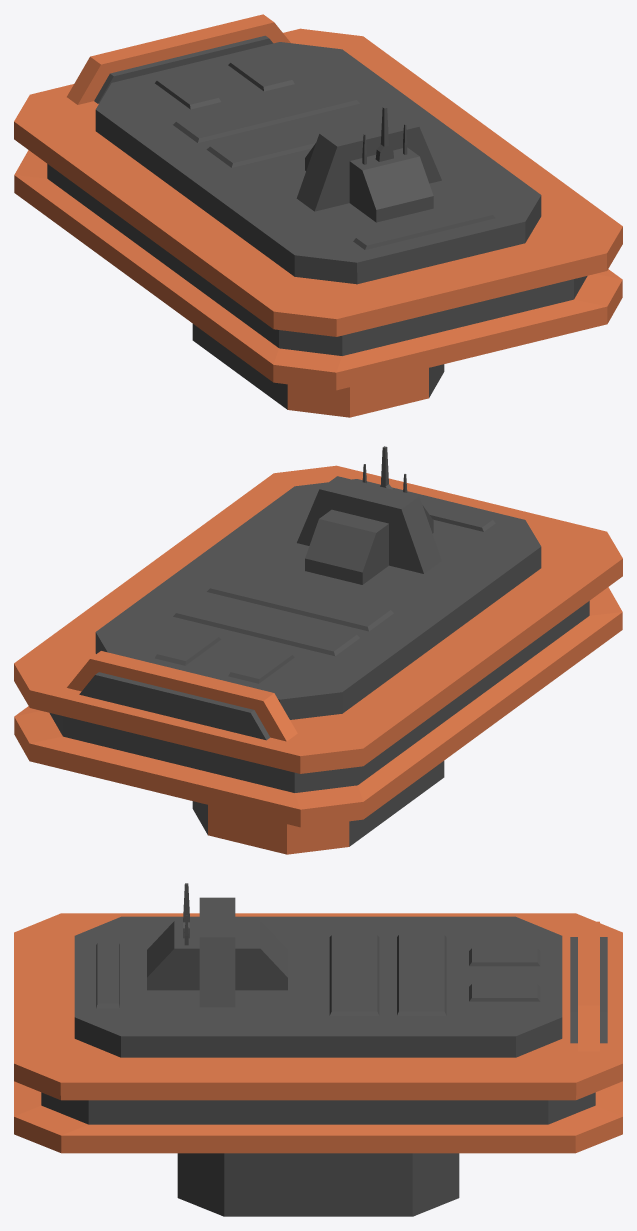
Rendered from CapitalShip_Bridge.fbx.
3 views of the same model, one above another, from view 1: azimuth 30°, elevation 25°; view 2: azimuth 150°, elevation 25°; view 3: azimuth 270°, elevation 25° (orthographic).
Visible parts, largest first — view 1: CapitalShip_Bridge; view 2: CapitalShip_Bridge; view 3: CapitalShip_Bridge.
Boxes of the visible parts, box(x1,y1,x2,y2) form: CapitalShip_Bridge: box(14, 14, 622, 417); CapitalShip_Bridge: box(14, 446, 622, 854); CapitalShip_Bridge: box(14, 883, 622, 1216).
Size of the model in its own units: 77.38 by 62.9 by 118.
